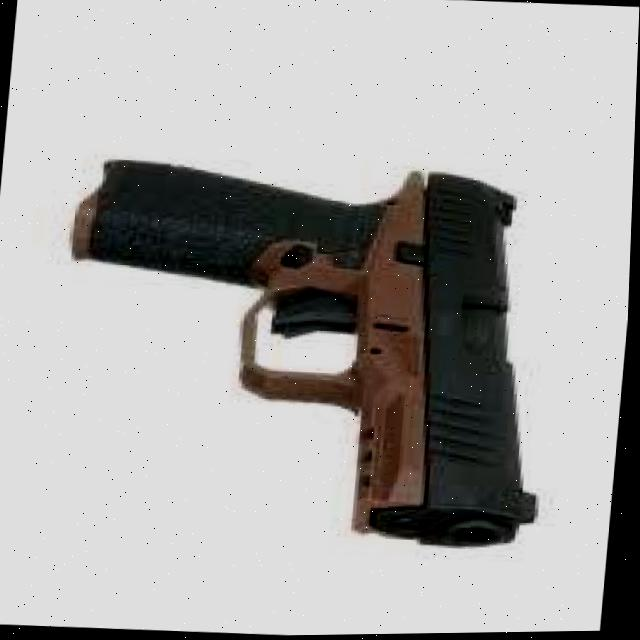gun: (70, 159, 538, 548)
